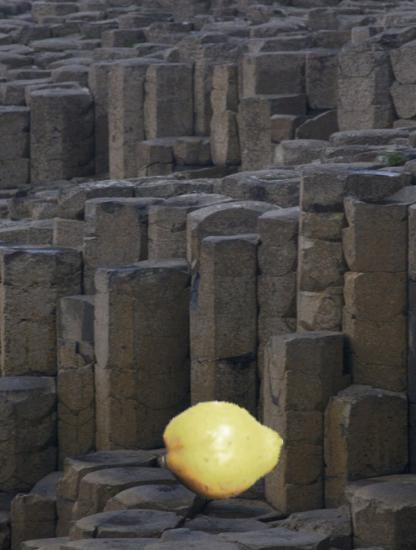Quince: (162, 389, 284, 511)
